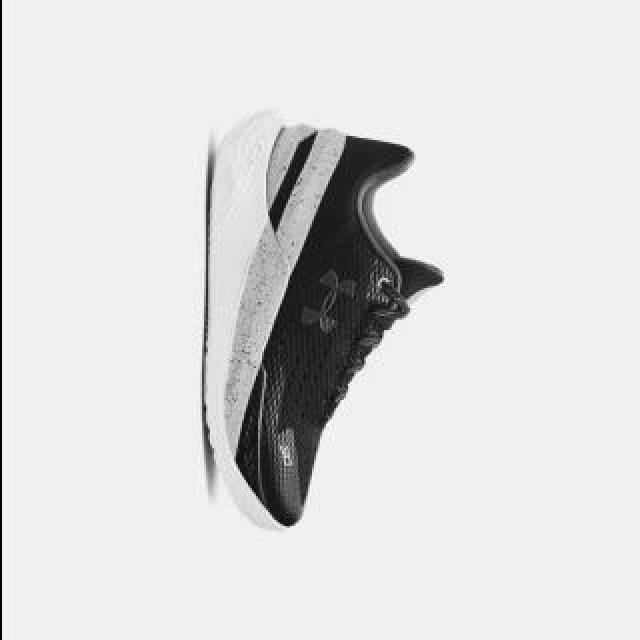shoes: (202, 104, 442, 532)
